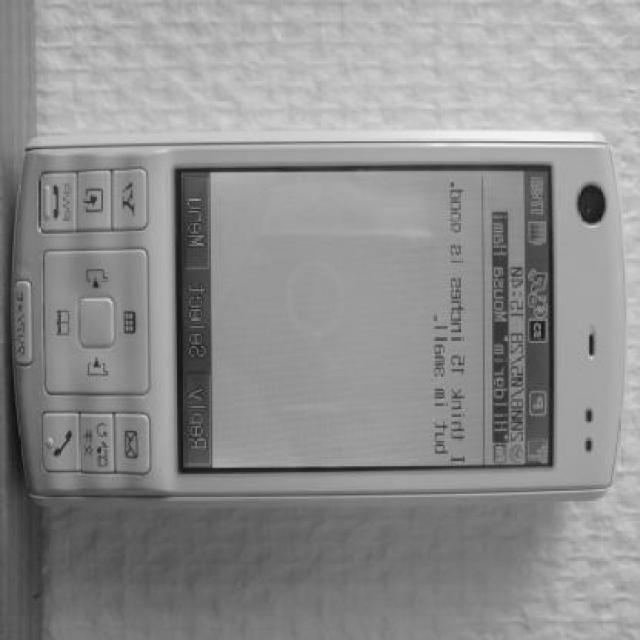fake: (10, 126, 628, 514)
